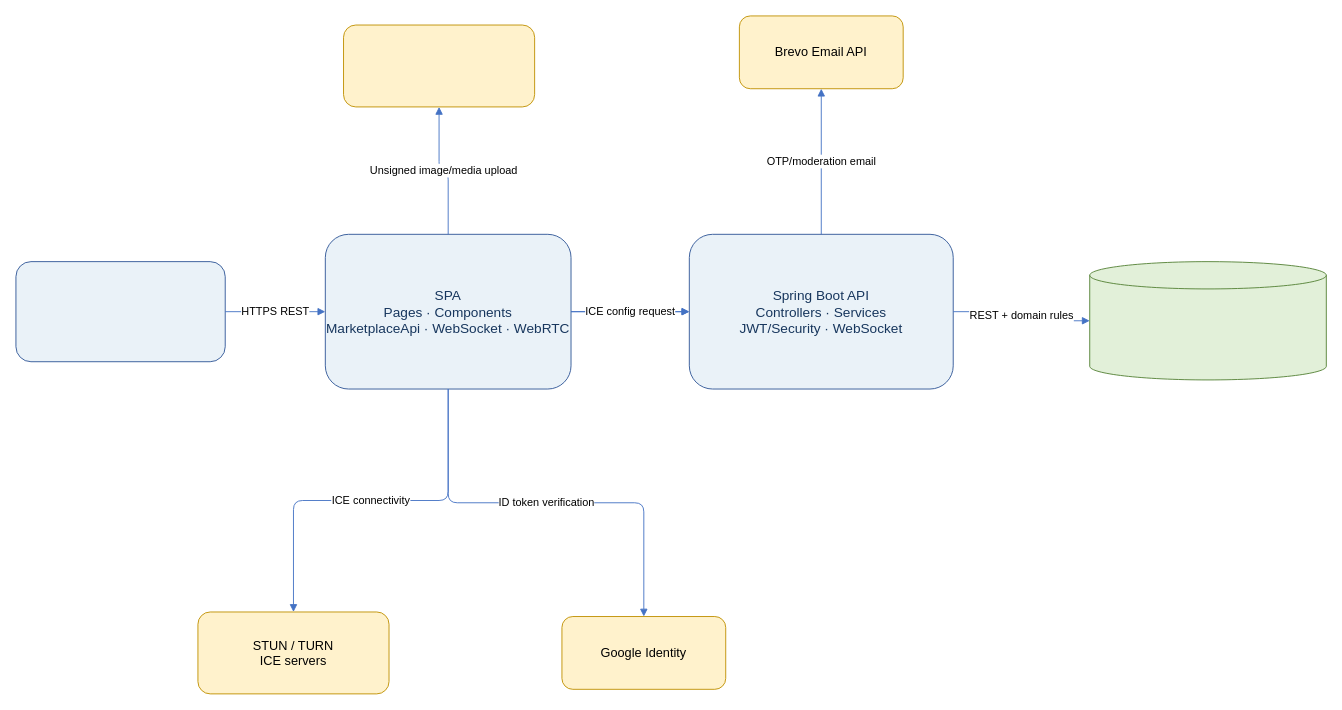
This 1342x710 diagram has some shape labels left out. Each missing label, with the centre of its shape:
"Cloudinary Browser upload" belongs at (439,65).
"Khách / MEMBER / ADMIN Trình duyệt React + TypeScript" belongs at (120,311).
"PostgreSQL Users · Listings · Chat Reviews · Reports · Notices" belongs at (1207,320).
